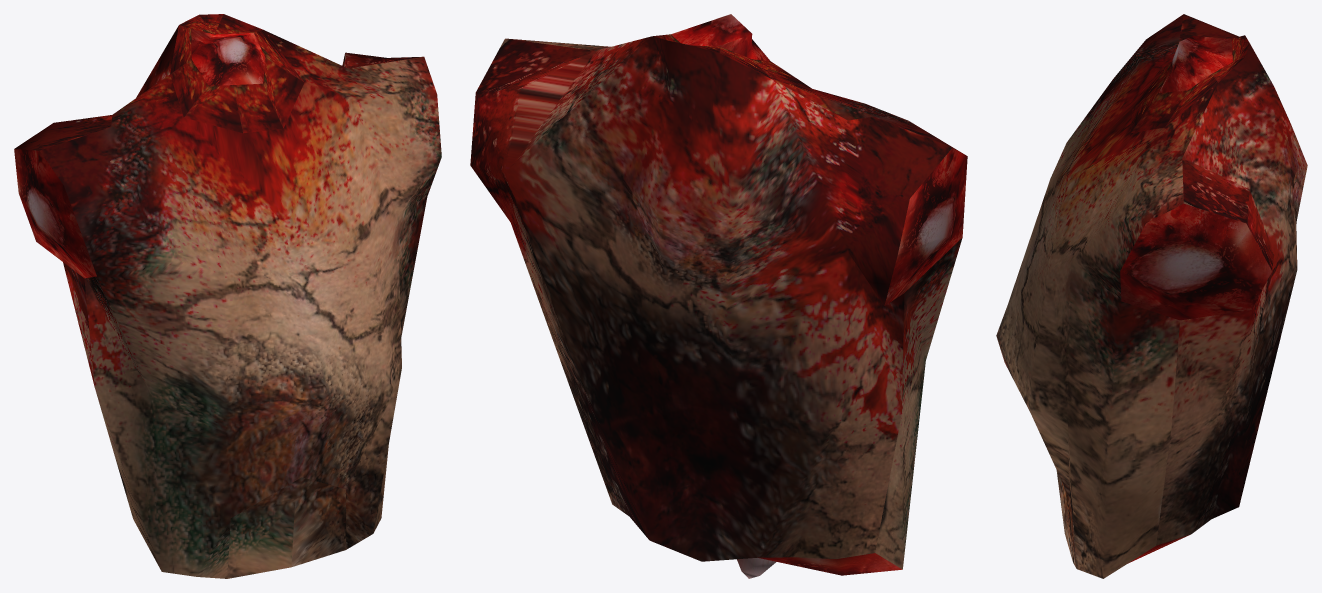
File: torso.fbx
The picture shows the model from 3 angles, left to right: view 1: azimuth 30°, elevation 25°; view 2: azimuth 150°, elevation 25°; view 3: azimuth 270°, elevation 25°; orthographic projection. The views are drawn at different scales.
Visible parts, largest first — view 1: torso_gib; view 2: torso_gib; view 3: torso_gib.
Part boxes in pixels (bbox=[...]): torso_gib: bbox=[14, 14, 441, 578]; torso_gib: bbox=[470, 14, 967, 578]; torso_gib: bbox=[996, 14, 1307, 578].
Size of the model in its own units: 0.5167 by 0.6379 by 0.3586.
